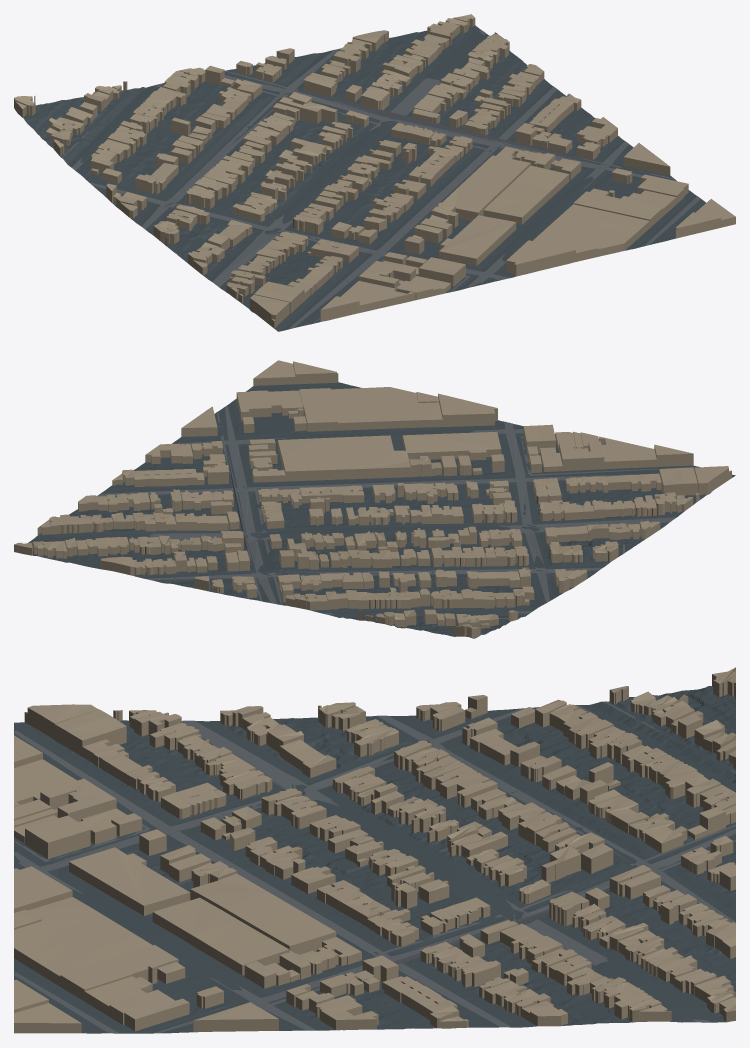
File: epsg26910-1441-10872.lod0.glb
3 views of the same model, one above another, from view 1: azimuth 30°, elevation 25°; view 2: azimuth 150°, elevation 25°; view 3: azimuth 270°, elevation 25° (orthographic). The views are drawn at different scales.
Visible parts, largest first — view 1: epsg26910-1441-10872-lod0; view 2: epsg26910-1441-10872-lod0; view 3: epsg26910-1441-10872-lod0.
Boxes of the visible parts, left/top/right/bottom form: epsg26910-1441-10872-lod0: left=14, top=14, right=735, bottom=331; epsg26910-1441-10872-lod0: left=14, top=360, right=735, bottom=638; epsg26910-1441-10872-lod0: left=14, top=667, right=735, bottom=1033.
Bounding box in the file's own units: 384 × 36.54 × 384.
